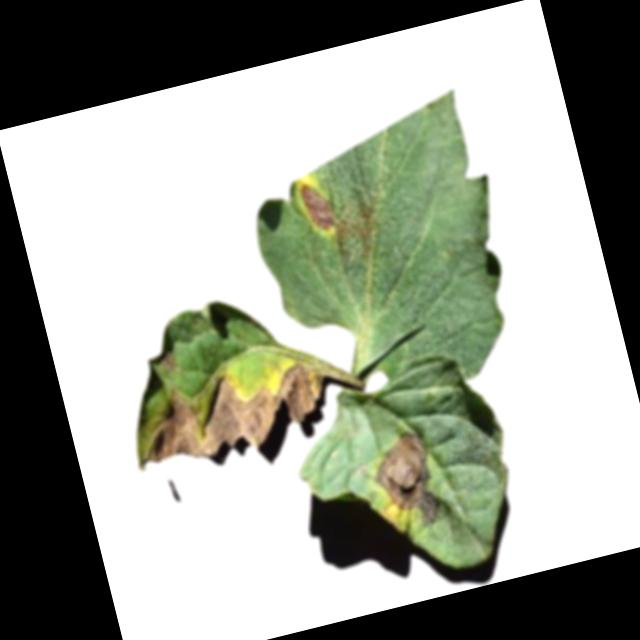Early_blight: (126, 347, 334, 472), (363, 425, 454, 537), (295, 176, 339, 235), (156, 348, 179, 371)
